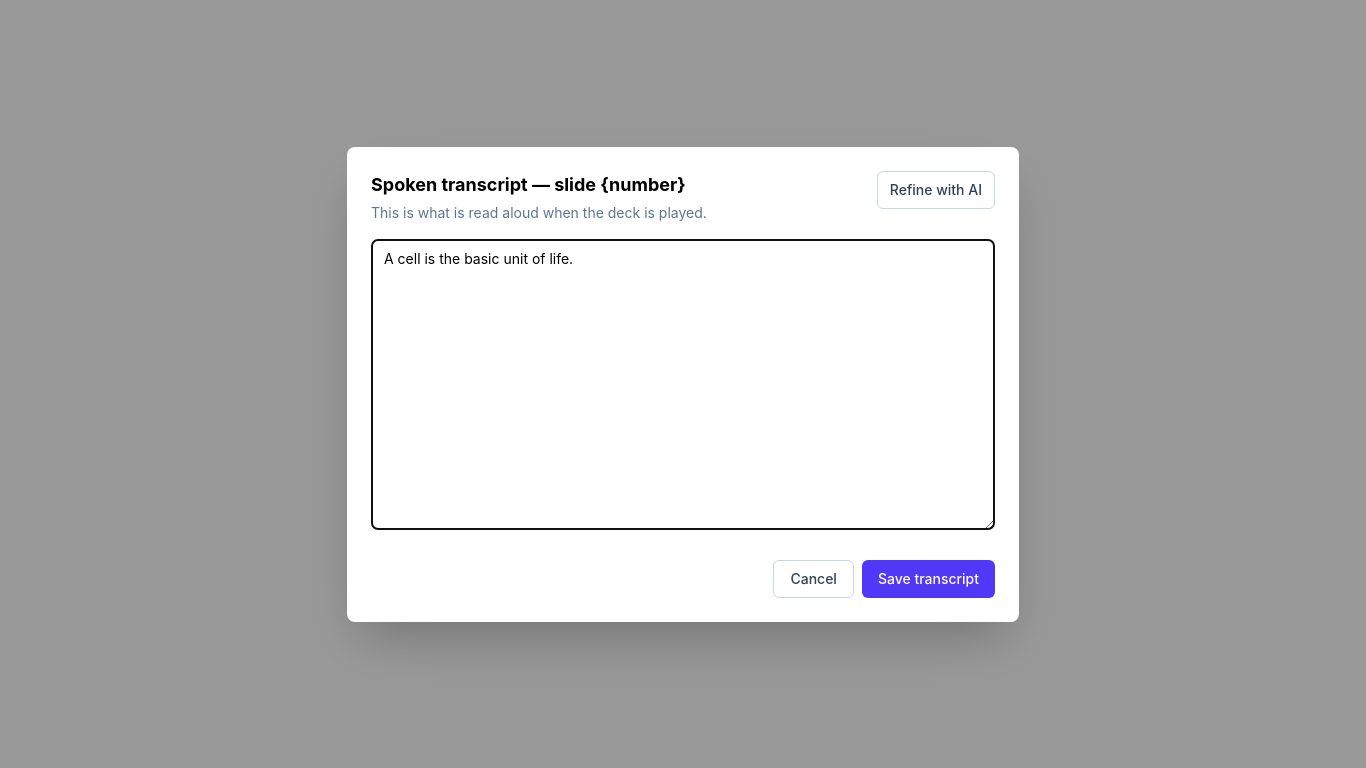
it: TranscriptEditorModal › refines the transcript into the field without saving
Click the button "Refine with AI": (936, 190) left=877, top=170, right=995, bottom=208
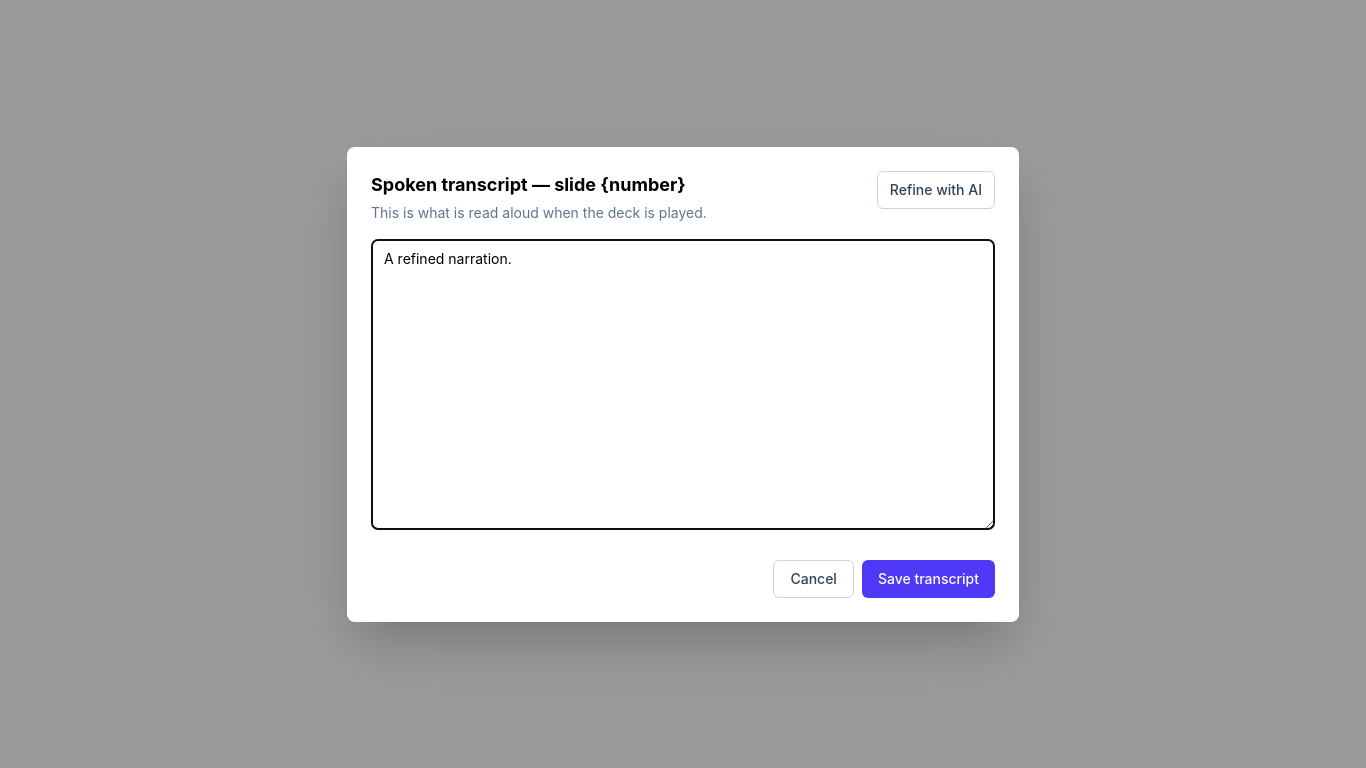
Expected: the text box named "Spoken transcript" holds "A refined narration.", left=371, top=238, right=995, bottom=530
